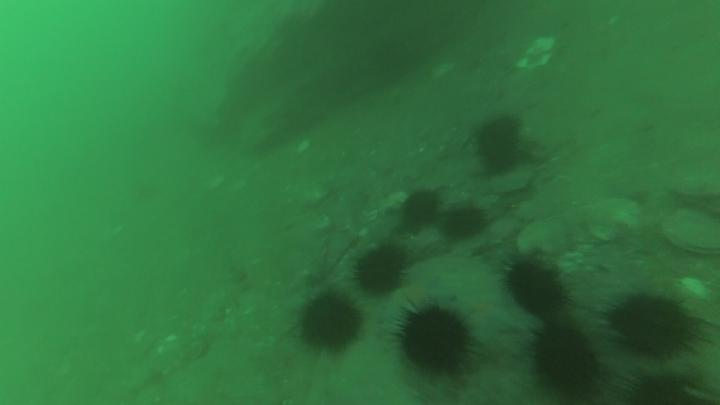echinus: (610, 283, 711, 367), (526, 313, 610, 398), (293, 282, 371, 362), (496, 254, 567, 316), (474, 113, 531, 181), (347, 245, 411, 296), (434, 202, 498, 245), (389, 182, 444, 231)
scallop: (664, 203, 720, 259)
starfish: (454, 286, 528, 356), (385, 279, 457, 331)
